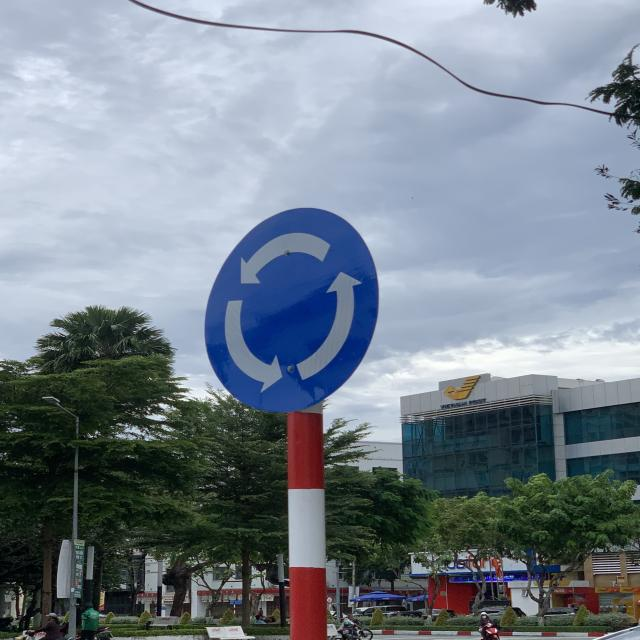Xe_Bus: (208, 198, 385, 414)
